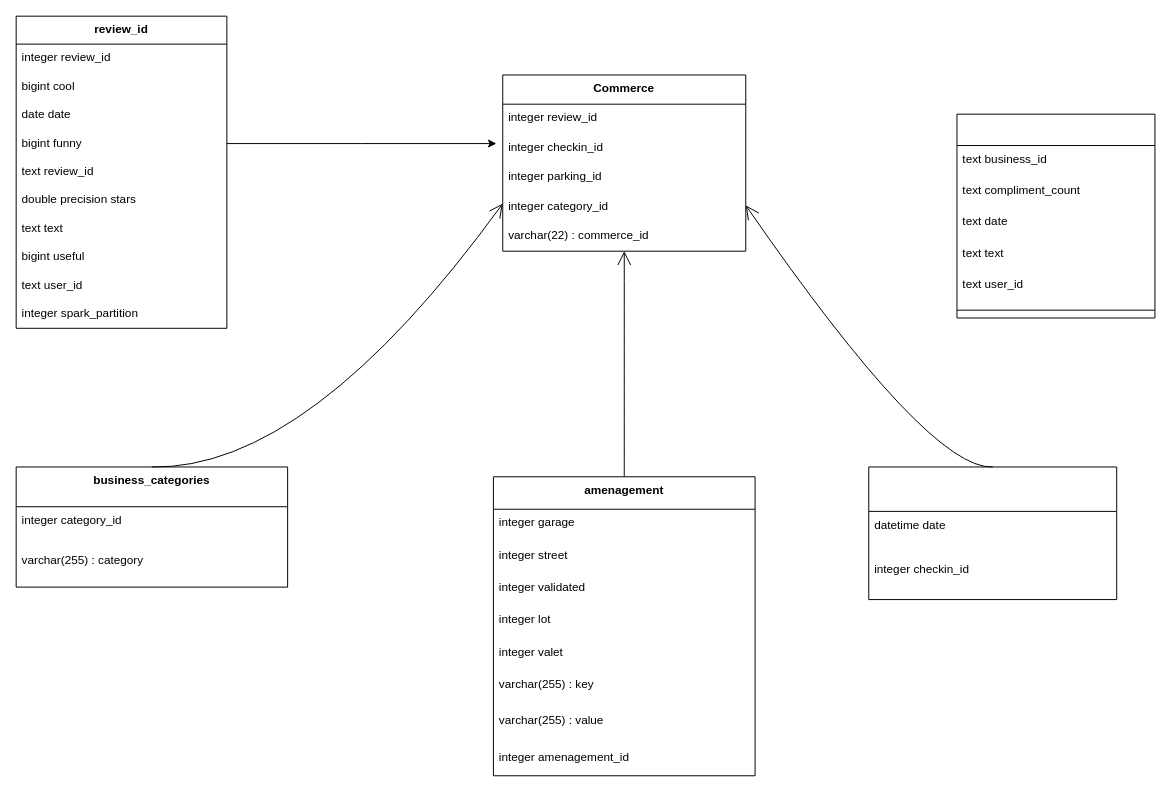
The diagram is 1171 pixels wide and 792 high, and some of its shapes have lost their labels. Here are the shapes that lost their labels. From the top down, the box of each, then its label:
(956, 113, 1155, 318): tip
(868, 466, 1117, 600): checkin_date
